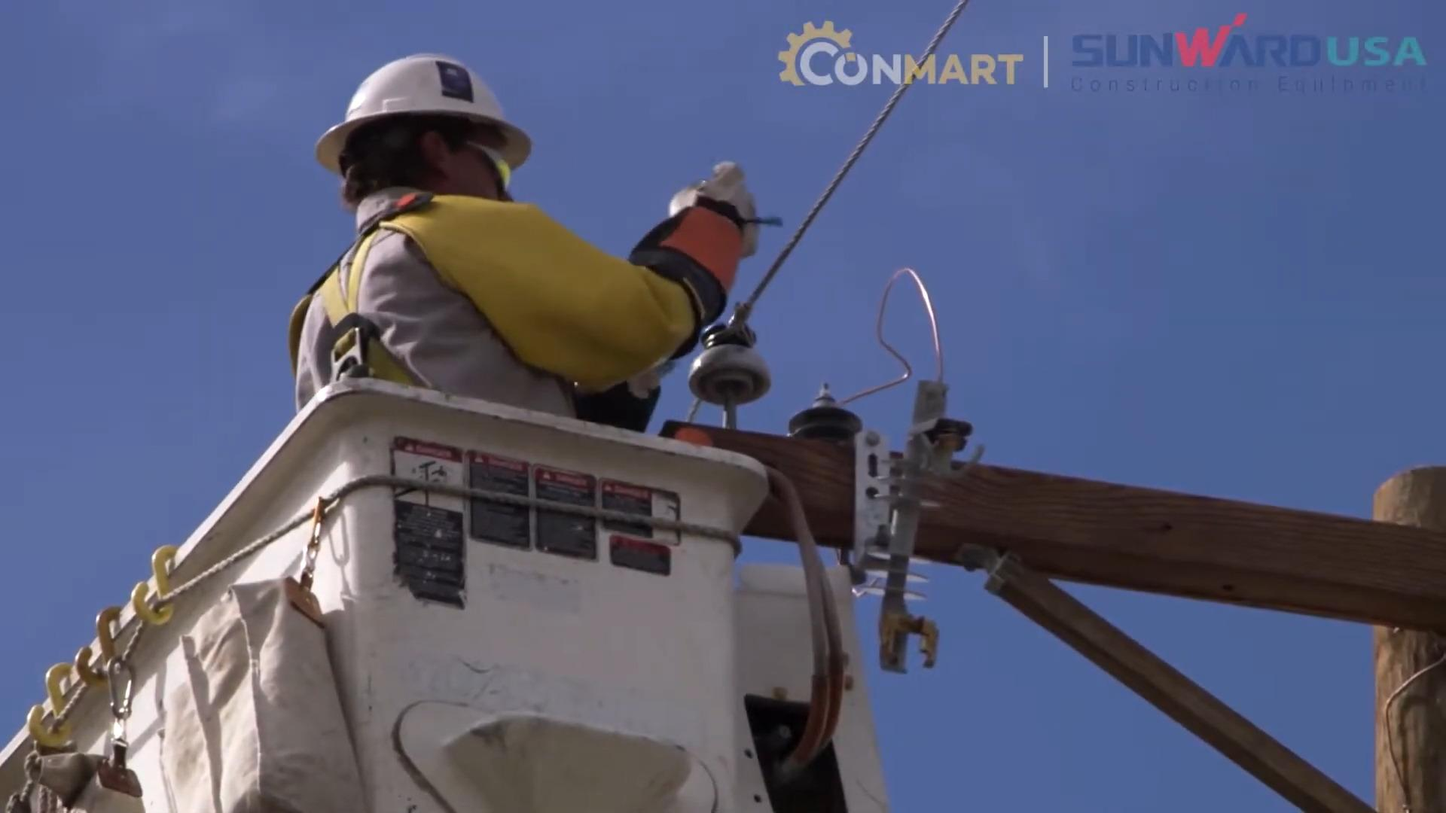Gloves: (671, 159, 771, 248)
Helmet: (313, 50, 532, 178)
Person: (280, 34, 748, 463)
Safety Vest: (315, 246, 586, 420)
